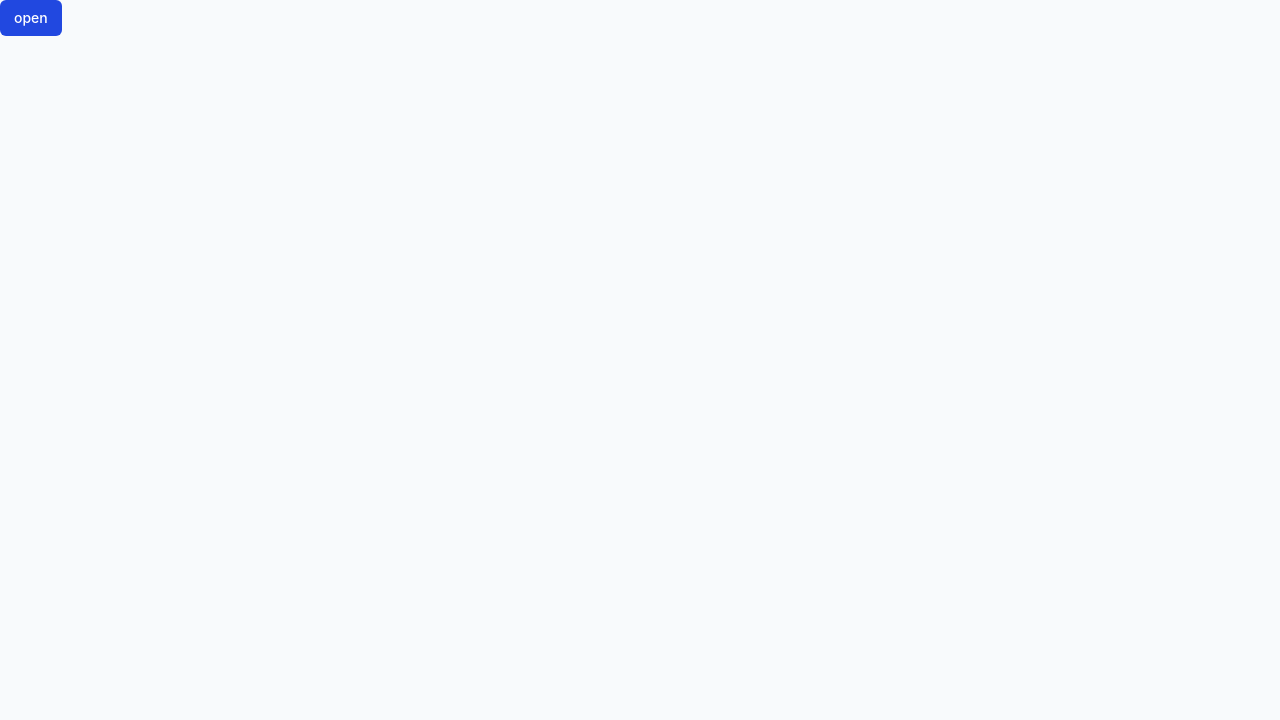
it: ConfirmDialog › requires typed confirmation for critical actions
Later steps or results of the test are not shown.
Click the button "open". click: (31, 18)
box: [0,0,62,36]
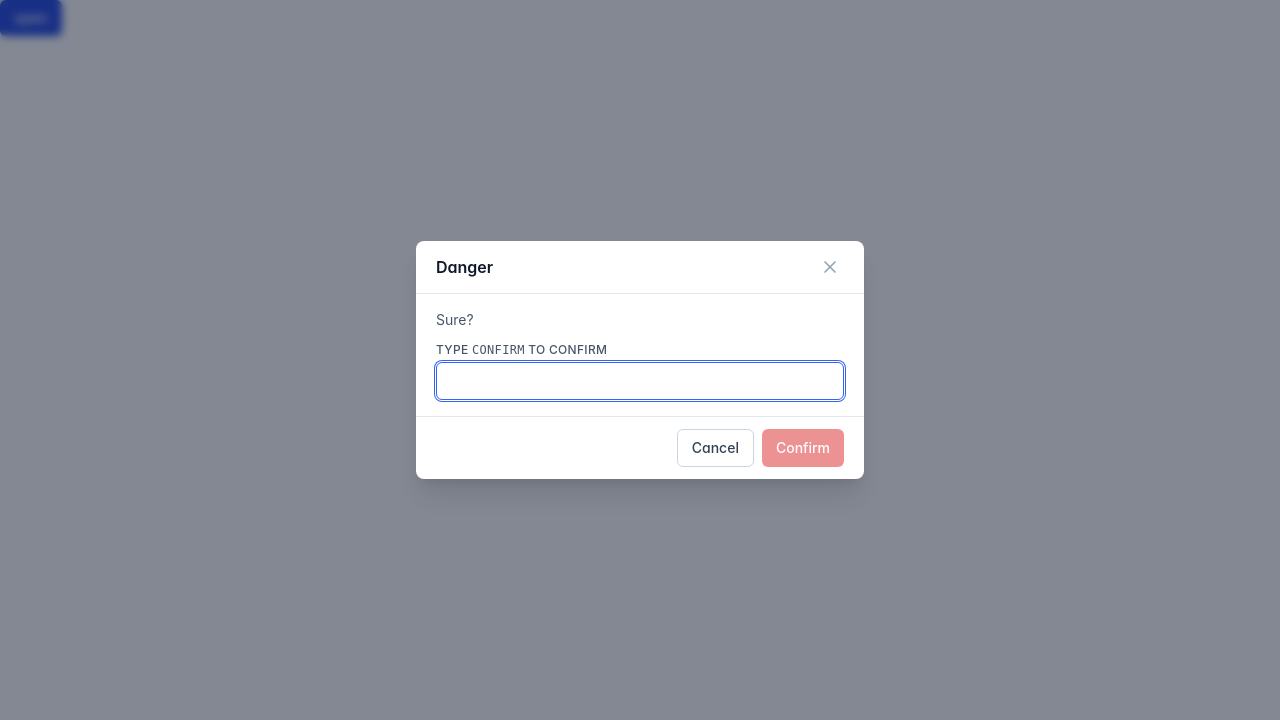
Now the button "Confirm" is disabled, box [762,429,844,467]
Type "CONFIRM" into the field labelled "Type CONFIRM to confirm". click: (640, 381)
box: [436,362,844,400]
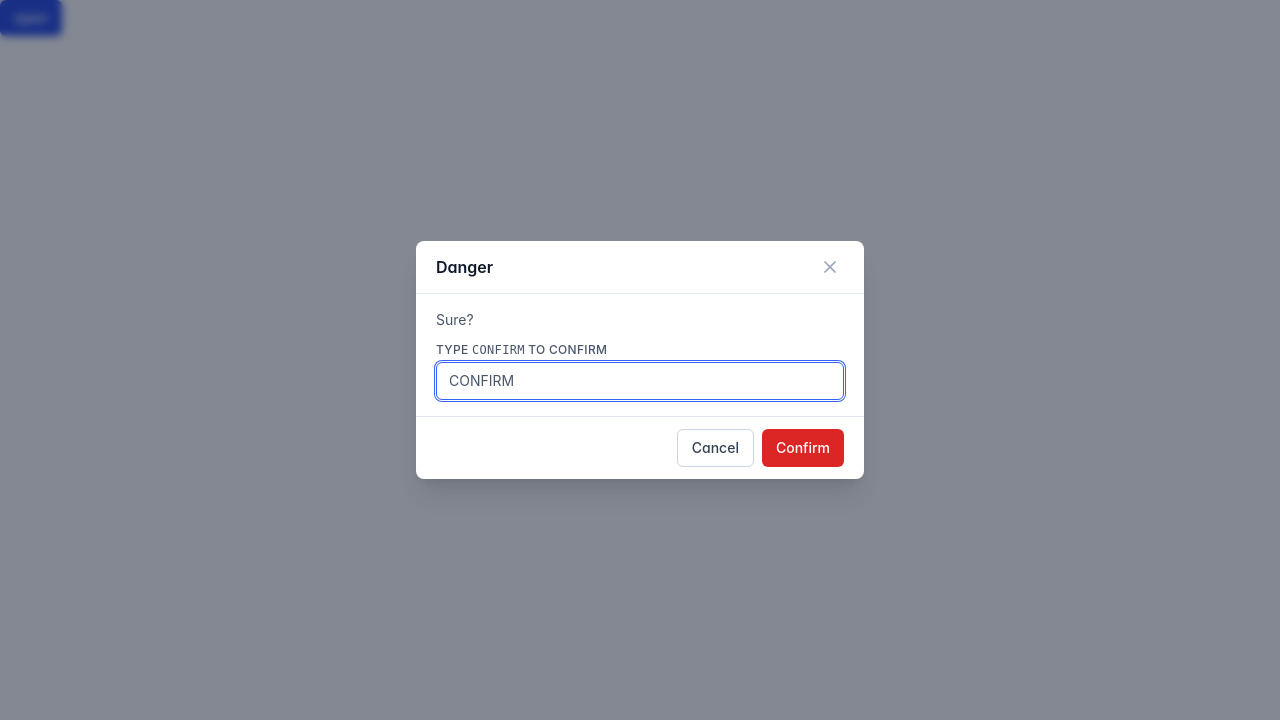
Now the button "Confirm" is enabled, box [762,429,844,467]
